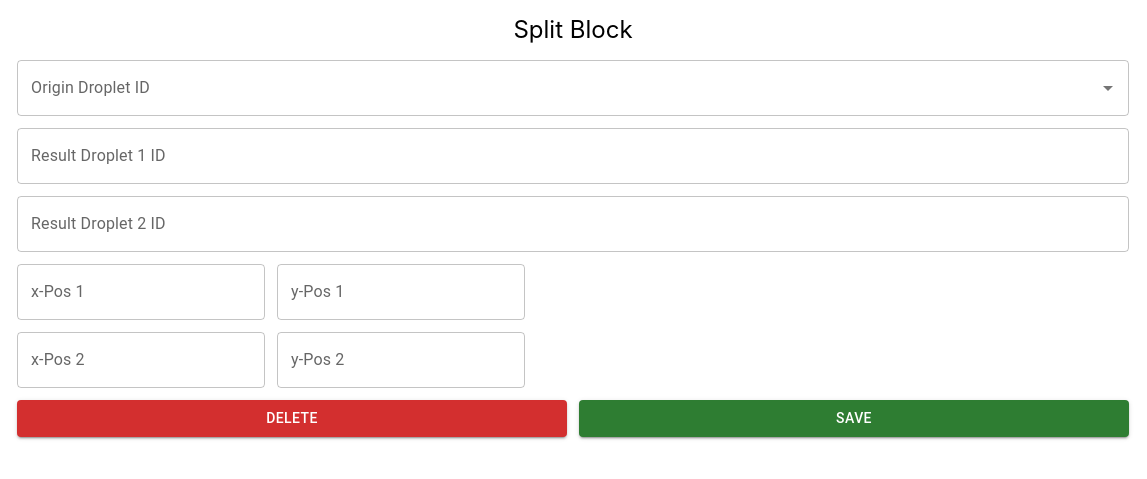
Scenario: SplitBlockEditor Component › Should show error message when result droplet 1 ID already exists
The width and height of the screenshot is (1147, 479).
Type "testDrop1" into the field labelled "Result Droplet 1 ID". click: (573, 156)
box: [17, 128, 1129, 184]
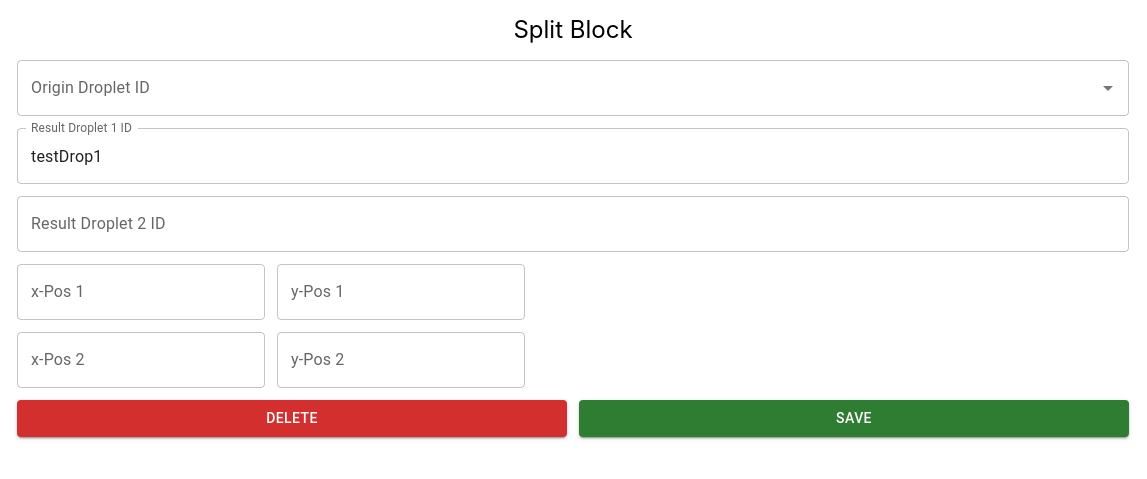
Click the button "Save". click: (854, 418)
box: [579, 400, 1129, 436]
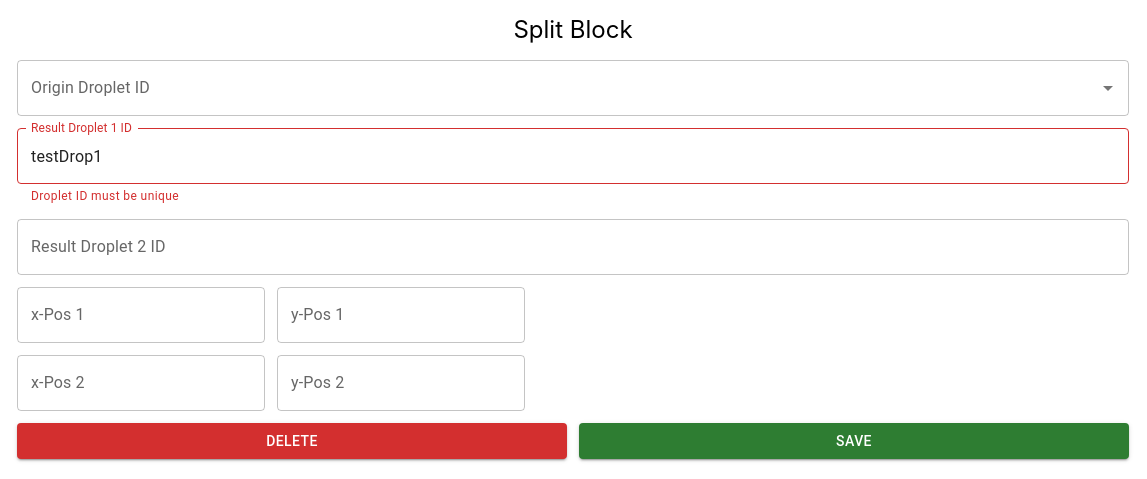
Result: the text "Droplet ID must be unique" is shown once at [31, 189, 179, 203]
